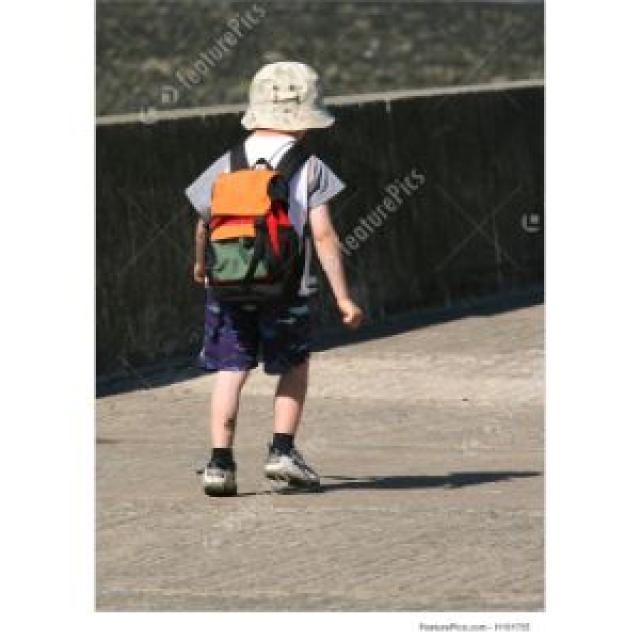nonfall: (191, 59, 375, 494)
